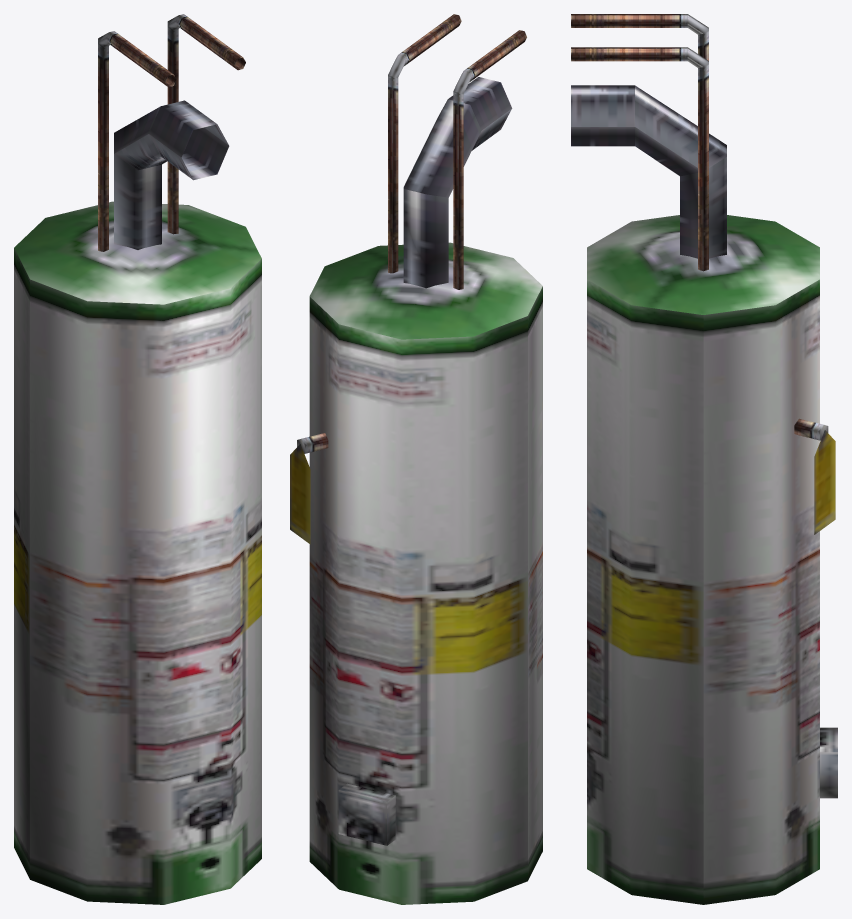
The model's file is water_heater.fbx.
The picture shows the model from 3 angles, left to right: view 1: azimuth 30°, elevation 25°; view 2: azimuth 150°, elevation 25°; view 3: azimuth 270°, elevation 25°; orthographic projection. The views are drawn at different scales.
Visible parts, largest first — view 1: mesh_1; view 2: mesh_1; view 3: mesh_1.
Part boxes in pixels (left/top/right/bottom): mesh_1: left=14, top=14, right=261, bottom=904; mesh_1: left=290, top=14, right=542, bottom=904; mesh_1: left=571, top=14, right=837, bottom=904.
Bounding box in the file's own units: 68.64 × 254 × 74.85.
